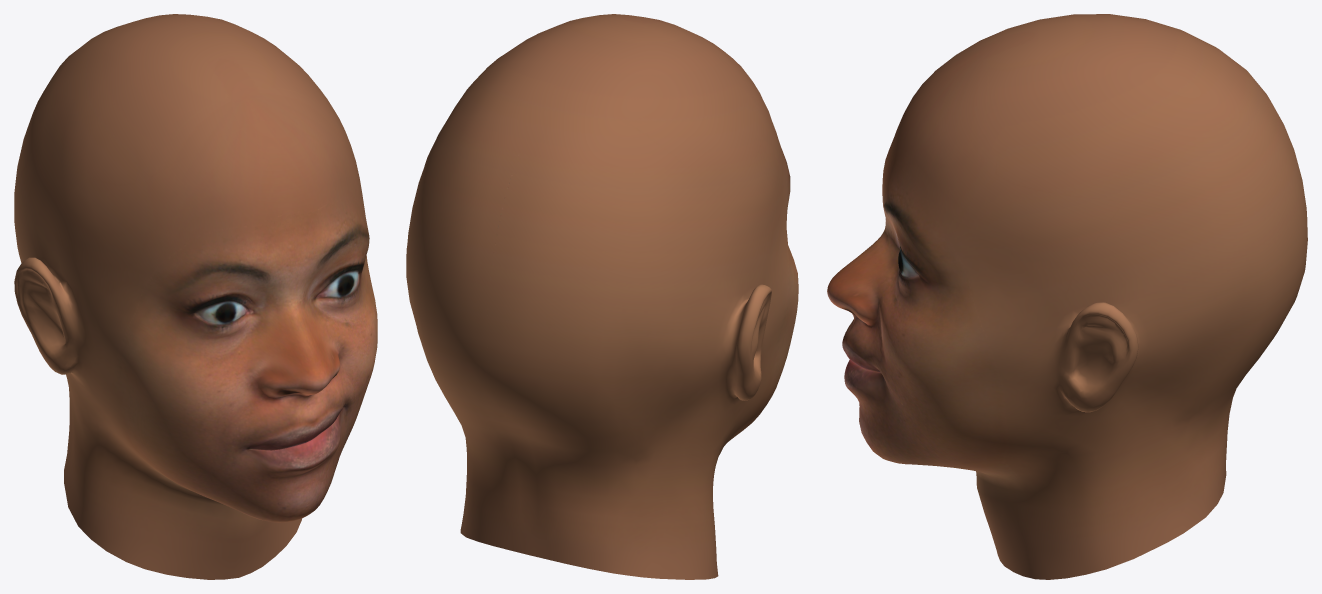
The model's file is v332_obj_ExpressionSneerLeft.obj.
3 renders of one model, left to right at view 1: azimuth 30°, elevation 25°; view 2: azimuth 150°, elevation 25°; view 3: azimuth 270°, elevation 25°, orthographic. The views are drawn at different scales.
Visible parts, largest first — view 1: HeadHires; view 2: HeadHires; view 3: HeadHires.
Part boxes in pixels (x1=…): HeadHires: x1=14, y1=14, x2=377, y2=579; HeadHires: x1=406, y1=14, x2=798, y2=579; HeadHires: x1=827, y1=14, x2=1307, y2=579.
Bounding box in the file's own units: 187 × 282 × 233.
